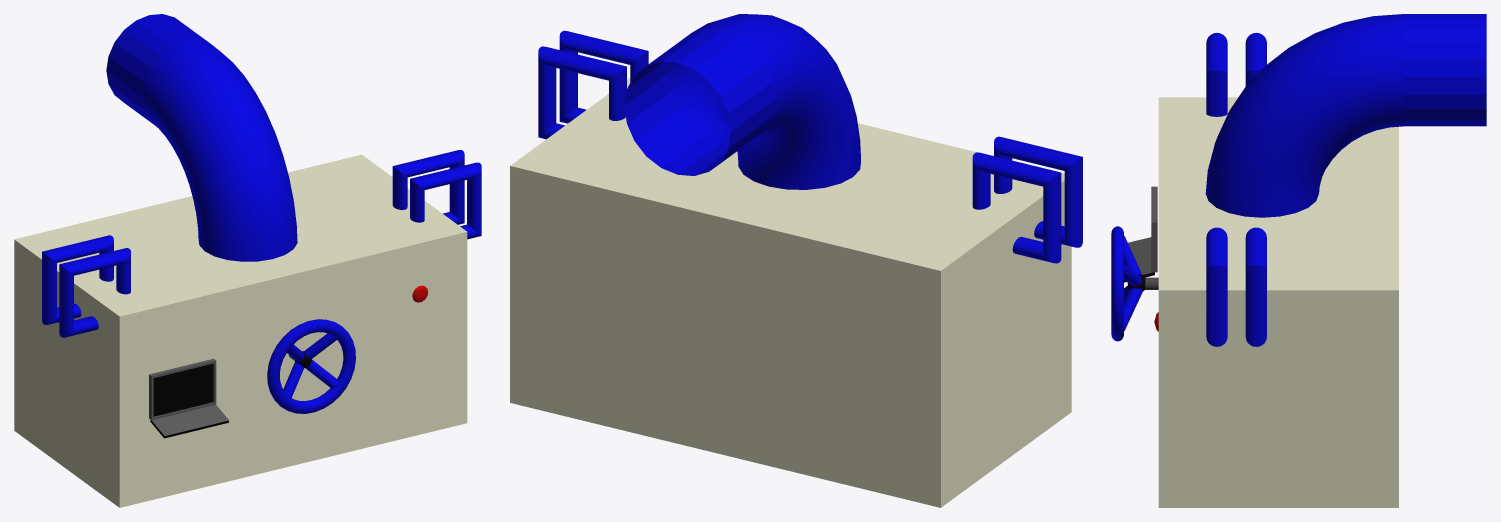
File: Valve.fbx
3 renders of one model, left to right at view 1: azimuth 30°, elevation 25°; view 2: azimuth 150°, elevation 25°; view 3: azimuth 270°, elevation 25°, orthographic. The views are drawn at different scales.
Visible parts, largest first — view 1: polySurface59, polySurface61, polySurface53, polySurface62, polySurface66, polySurface63, polySurface65, polySurface64, polySurface68; view 2: polySurface59, polySurface61, polySurface65, polySurface64, polySurface66, polySurface63; view 3: polySurface59, polySurface61, polySurface63, polySurface64, polySurface66, polySurface53, polySurface65, polySurface68, polySurface62.
Part boxes in pixels (x1=…): polySurface59: x1=14, y1=154, x2=467, y2=507; polySurface61: x1=106, y1=14, x2=297, y2=261; polySurface53: x1=267, y1=319, x2=355, y2=413; polySurface62: x1=149, y1=358, x2=216, y2=420; polySurface66: x1=59, y1=248, x2=130, y2=337; polySurface63: x1=410, y1=162, x2=481, y2=239; polySurface65: x1=42, y1=235, x2=113, y2=324; polySurface64: x1=392, y1=150, x2=464, y2=224; polySurface68: x1=150, y1=404, x2=228, y2=438; polySurface59: x1=510, y1=78, x2=1071, y2=507; polySurface61: x1=624, y1=14, x2=860, y2=189; polySurface65: x1=972, y1=152, x2=1061, y2=263; polySurface64: x1=538, y1=46, x2=626, y2=139; polySurface66: x1=994, y1=136, x2=1082, y2=247; polySurface63: x1=559, y1=30, x2=648, y2=123; polySurface59: x1=1158, y1=97, x2=1398, y2=507; polySurface61: x1=1205, y1=14, x2=1486, y2=217; polySurface63: x1=1206, y1=227, x2=1227, y2=346; polySurface64: x1=1245, y1=227, x2=1266, y2=346; polySurface66: x1=1206, y1=33, x2=1227, y2=116; polySurface53: x1=1111, y1=226, x2=1123, y2=341; polySurface65: x1=1245, y1=32, x2=1266, y2=86; polySurface68: x1=1124, y1=237, x2=1154, y2=282; polySurface62: x1=1151, y1=186, x2=1157, y2=272.
Size of the model in its own units: 10.39 by 8.18 by 7.08.
